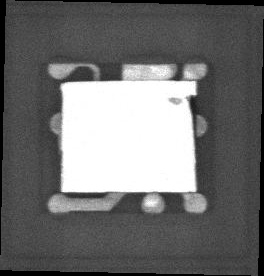DIE_INK: (167, 95, 182, 106)
